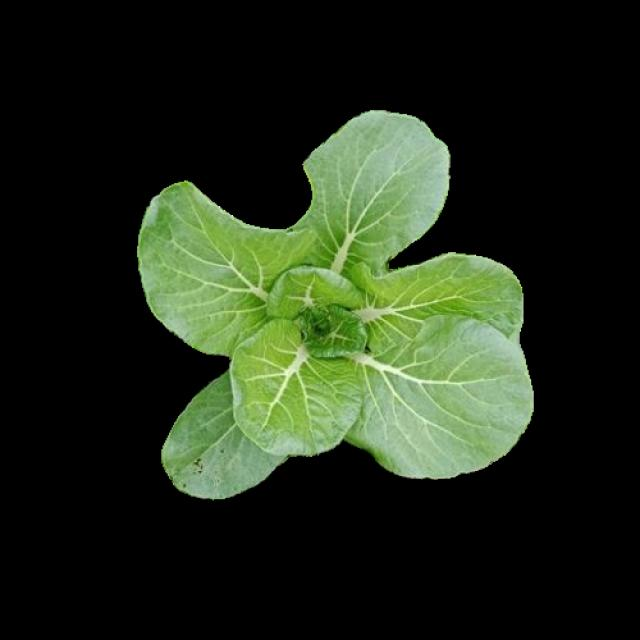mature: (135, 112, 532, 502)
unhealthy: (162, 375, 290, 497)
